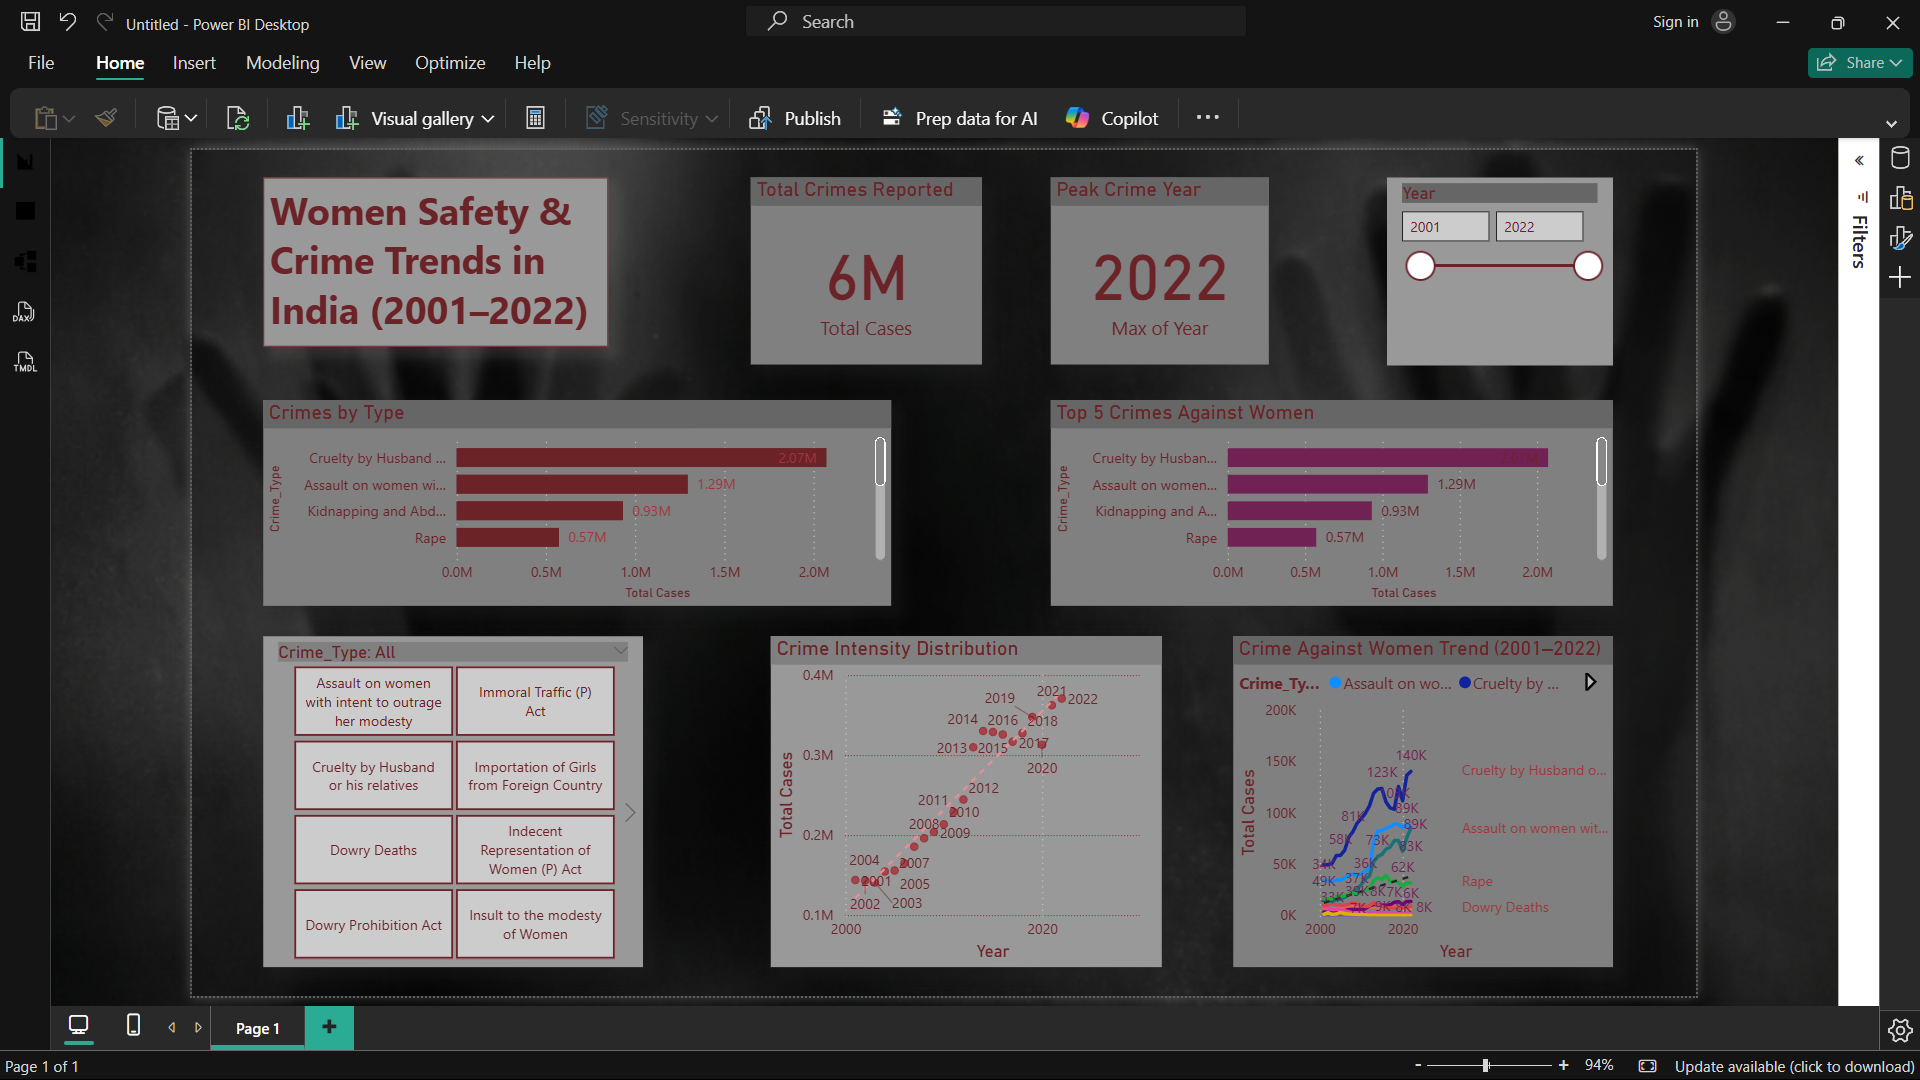

This screenshot's page, from the dashboard's own definition file:
{"tool":"powerbi","page":{"name":"Women Safety & Crime Trends (2001–2022)","canvas":[1280,720],"ordinal":0},"visuals":[{"type":"lineChart","title":"Crime Against Women Trend (2001–2022)","fields":{"Category":["Crime against Women (2001-2022).Year"],"Y":["Crime against Women (2001-2022).Total Cases"],"Series":["Crime against Women (2001-2022).Crime_Type"]},"box":[885.9,414.1,323.4,281.2],"z":0},{"type":"clusteredBarChart","title":"Crimes by Type","fields":{"Y":["Crime against Women (2001-2022).Total Cases"],"Category":["Crime against Women (2001-2022).Crime_Type"]},"box":[60.6,212.8,570.2,174.5],"z":1},{"type":"clusteredBarChart","title":"Top 5 Crimes Against Women","fields":{"Y":["Crime against Women (2001-2022).Total Cases"],"Category":["Crime against Women (2001-2022).Crime_Type"]},"box":[711.7,212.8,497.9,174.5],"z":2},{"type":"card","title":"Total Crimes Reported","fields":{"Values":["Crime against Women (2001-2022).Total Cases"]},"box":[475,23.4,196.9,159.4],"z":3},{"type":"card","title":"Peak Crime Year","fields":{"Values":["Max(Crime against Women (2001-2022).Year)"]},"box":[731.2,23.4,185.9,159.4],"z":4},{"type":"scatterChart","title":"Crime Intensity Distribution","fields":{"X":["Crime against Women (2001-2022).Year"],"Y":["Crime against Women (2001-2022).Total Cases"]},"box":[492.2,414.1,332.8,281.2],"z":5},{"type":"slicer","fields":{"Values":["Crime against Women (2001-2022).Year"]},"box":[1017.2,23.4,192.2,159.4],"z":6},{"type":"slicer","fields":{"Values":["Crime against Women (2001-2022).Crime_Type"]},"box":[60.9,414.1,323.4,281.2],"z":7},{"type":"textbox","box":[60.9,23.4,293.8,143.8],"z":8}]}

Visuals, with their boxes on the page's 1280x720 design canvas (x1, y1, x2, y2). These are canvas units, not pixel positions in the 1920x1080 screenshot, which may show the page scaled, cropped or inside an application window:
"Crime Against Women Trend (2001–2022)" lineChart: region(886, 414, 1209, 695)
"Crimes by Type" clusteredBarChart: region(61, 213, 631, 387)
"Top 5 Crimes Against Women" clusteredBarChart: region(712, 213, 1210, 387)
"Total Crimes Reported" card: region(475, 23, 672, 183)
"Peak Crime Year" card: region(731, 23, 917, 183)
"Crime Intensity Distribution" scatterChart: region(492, 414, 825, 695)
slicer - Crime against Women (2001-2022).Year: region(1017, 23, 1209, 183)
slicer - Crime against Women (2001-2022).Crime_Type: region(61, 414, 384, 695)
textbox: region(61, 23, 355, 167)
